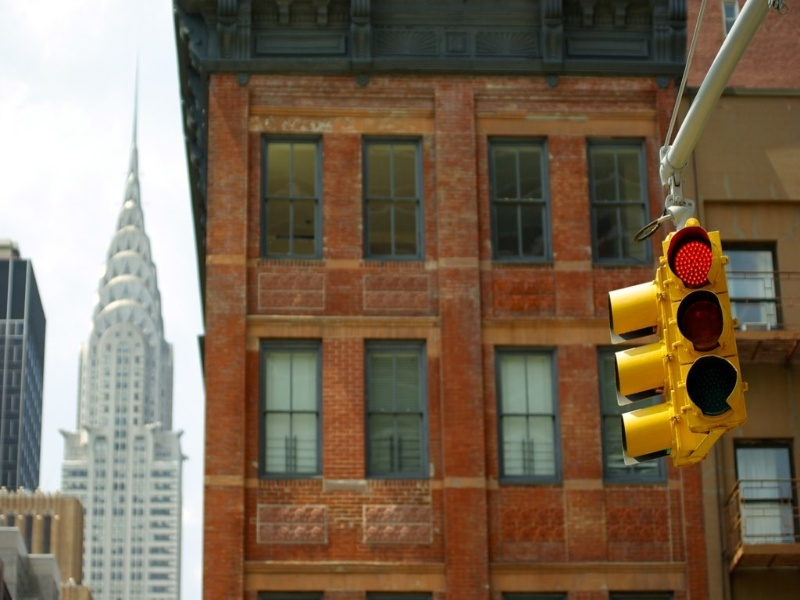red_light: (655, 218, 726, 291)
